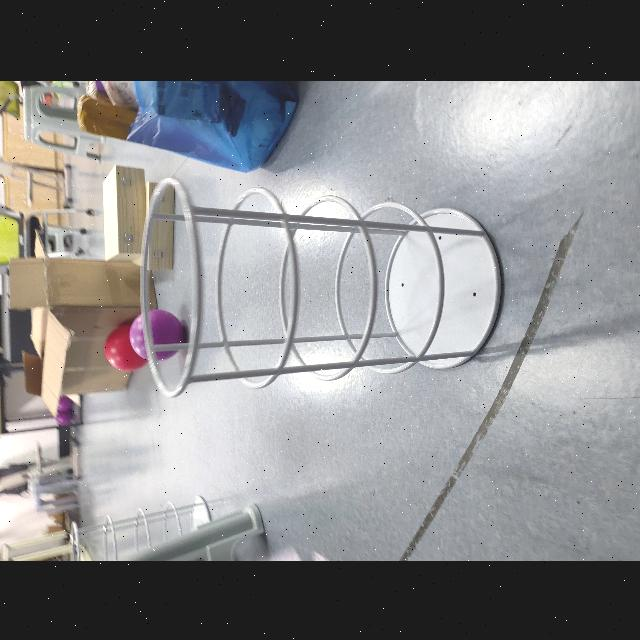S: (137, 174, 508, 400)
